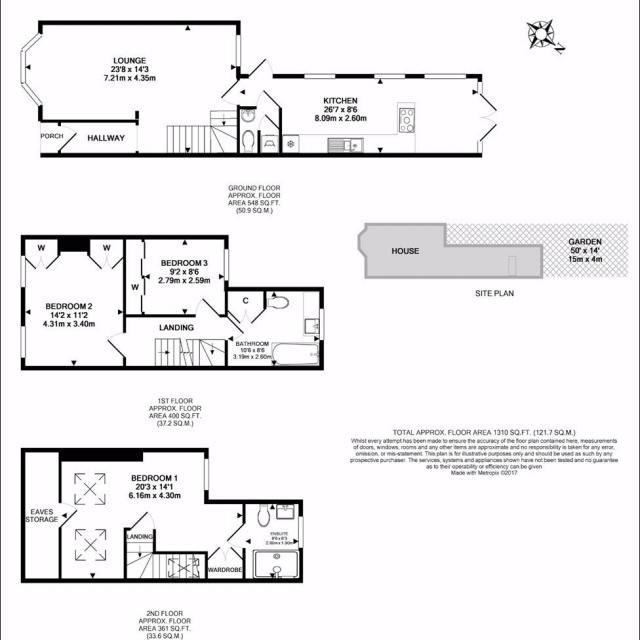DOOR: (219, 78, 240, 107), (247, 57, 274, 79), (225, 522, 246, 549), (255, 89, 282, 110), (194, 297, 220, 318), (58, 502, 78, 529), (106, 332, 126, 359), (225, 316, 245, 342)
ROOM: (219, 57, 498, 158), (58, 447, 246, 583), (20, 235, 127, 371), (122, 235, 229, 318)
WINDOW: (17, 26, 48, 111), (423, 73, 467, 80), (203, 458, 210, 491), (223, 248, 230, 281), (303, 73, 336, 80), (373, 73, 406, 80), (298, 516, 304, 549), (319, 308, 325, 341), (20, 255, 26, 288), (20, 325, 26, 358)
